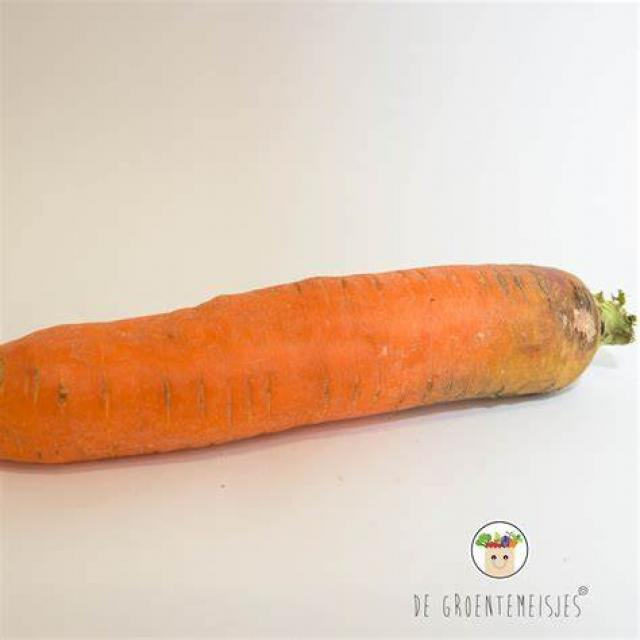Carrot: (0, 261, 630, 468)
